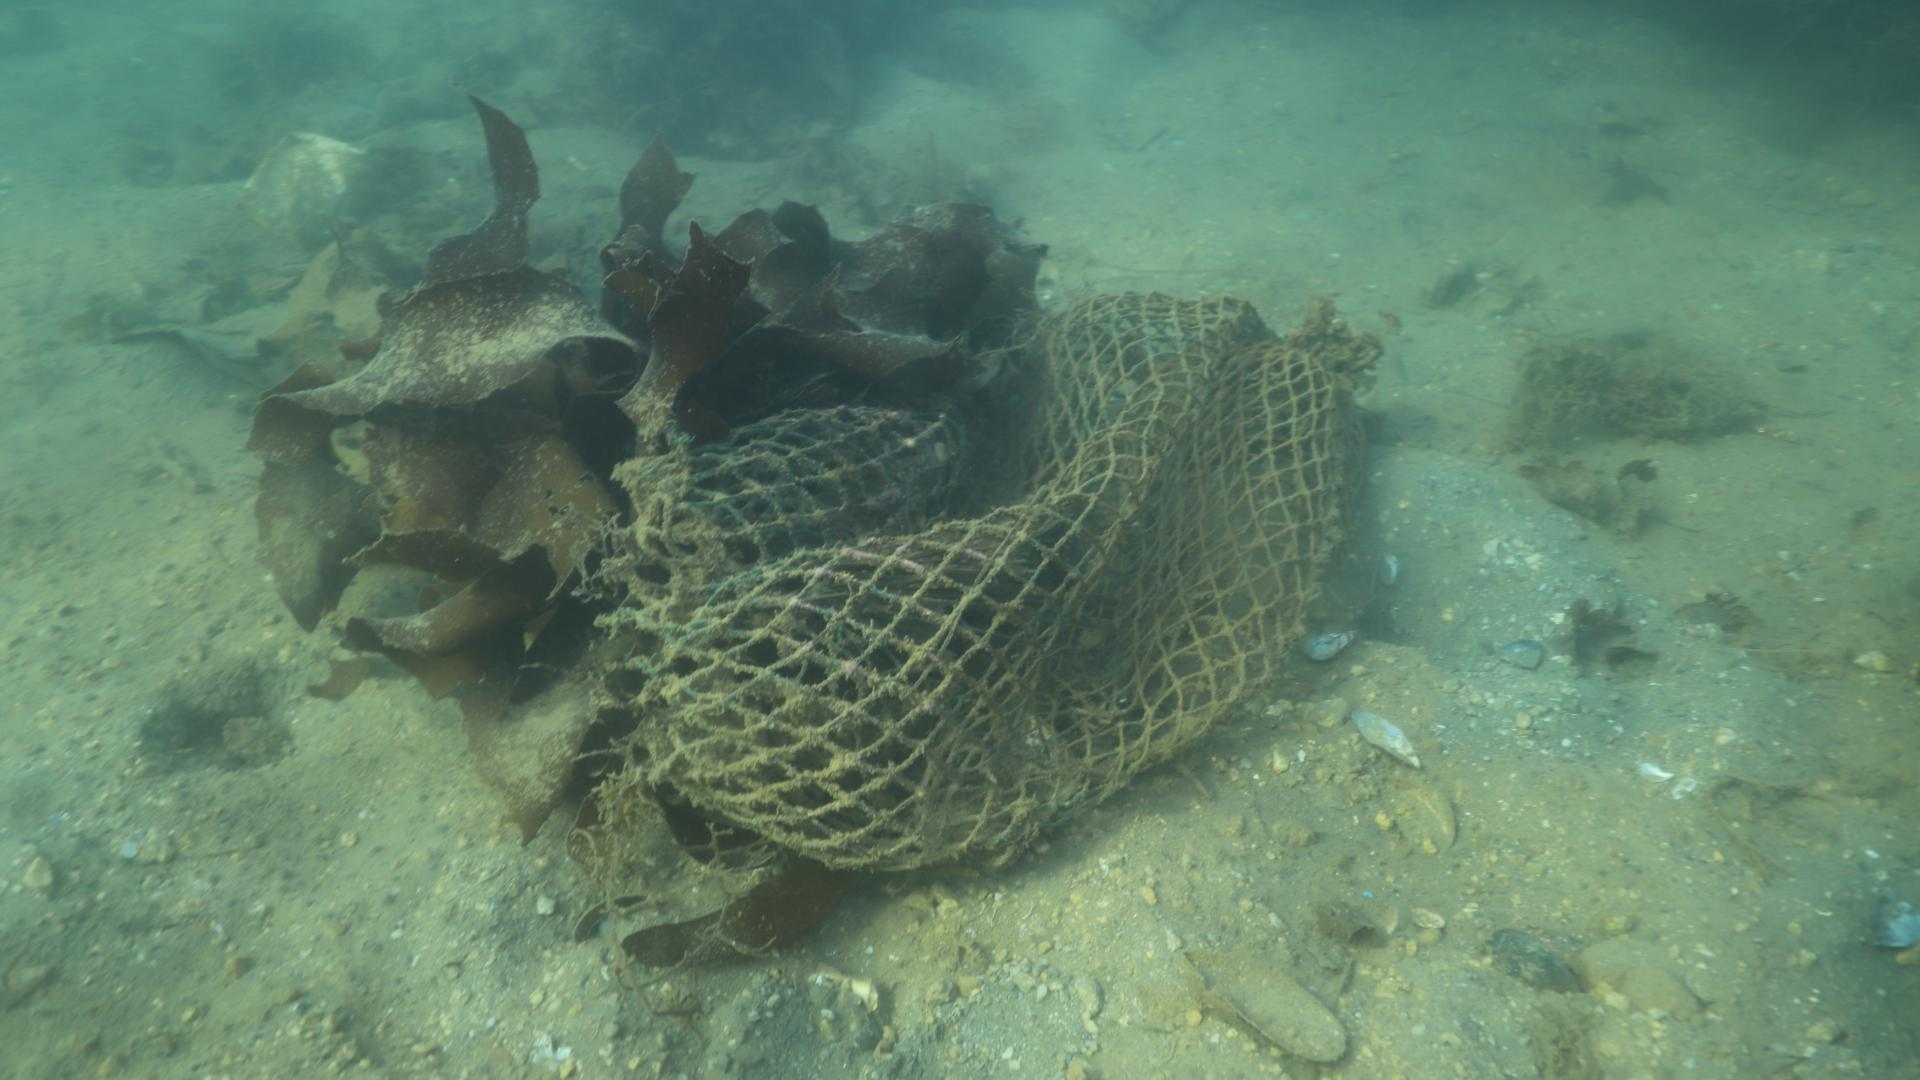fish net: (634, 287, 1364, 872)
